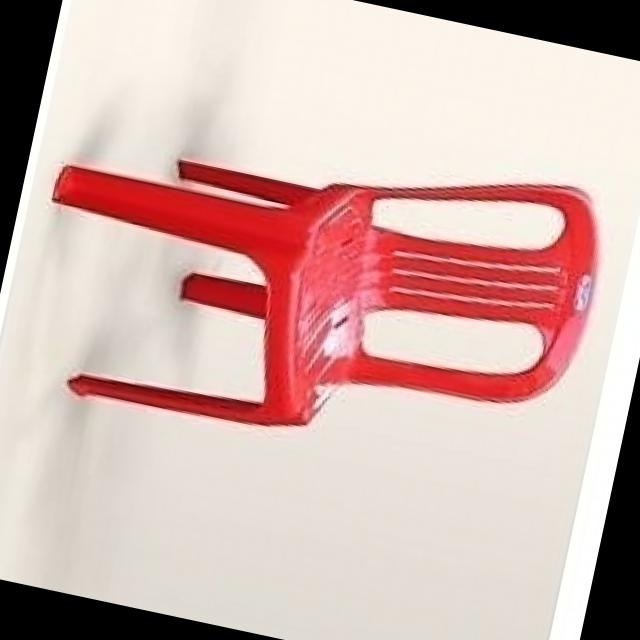Chair: (3, 78, 622, 508)
